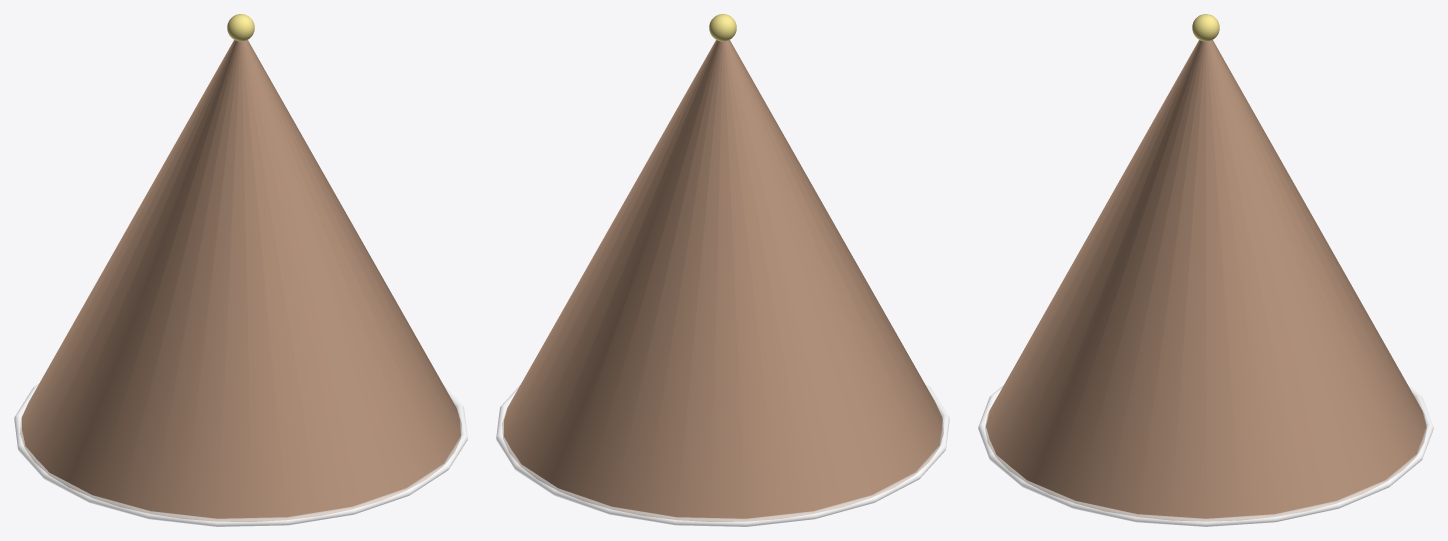
3 renders of one model, left to right at view 1: azimuth 30°, elevation 25°; view 2: azimuth 150°, elevation 25°; view 3: azimuth 270°, elevation 25°, orthographic.
Visible parts, largest first — view 1: cone, base_circle, apex; view 2: cone, base_circle, apex; view 3: cone, base_circle, apex.
Part boxes in pixels (x1,y1,x2,y2): cone: (20, 40, 461, 521); base_circle: (14, 384, 467, 526); apex: (227, 14, 254, 41); cone: (502, 40, 943, 521); base_circle: (496, 384, 949, 526); apex: (709, 14, 736, 41); cone: (985, 40, 1426, 521); base_circle: (978, 385, 1433, 526); apex: (1192, 14, 1219, 41).
Bounding box in the file's own units: 1.13 × 1.2 × 1.13.
